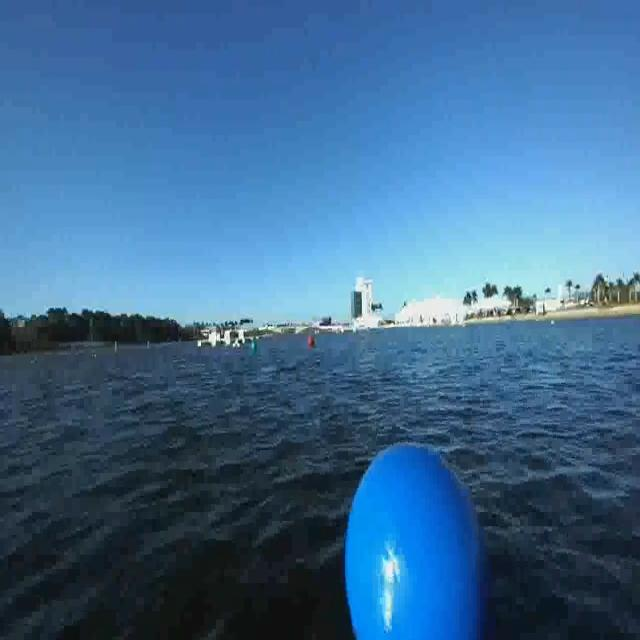blue-buoy: (334, 435, 499, 640)
